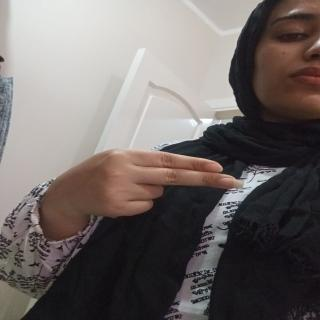AYN: (48, 143, 254, 245)
